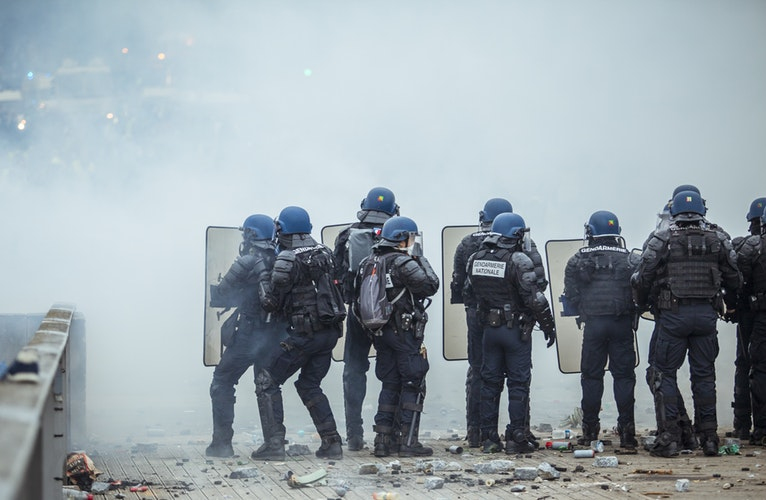helmet: (353, 188, 407, 219), (266, 202, 309, 236), (485, 212, 541, 237), (243, 210, 280, 246), (583, 207, 621, 237), (667, 188, 706, 216), (375, 217, 409, 240)
